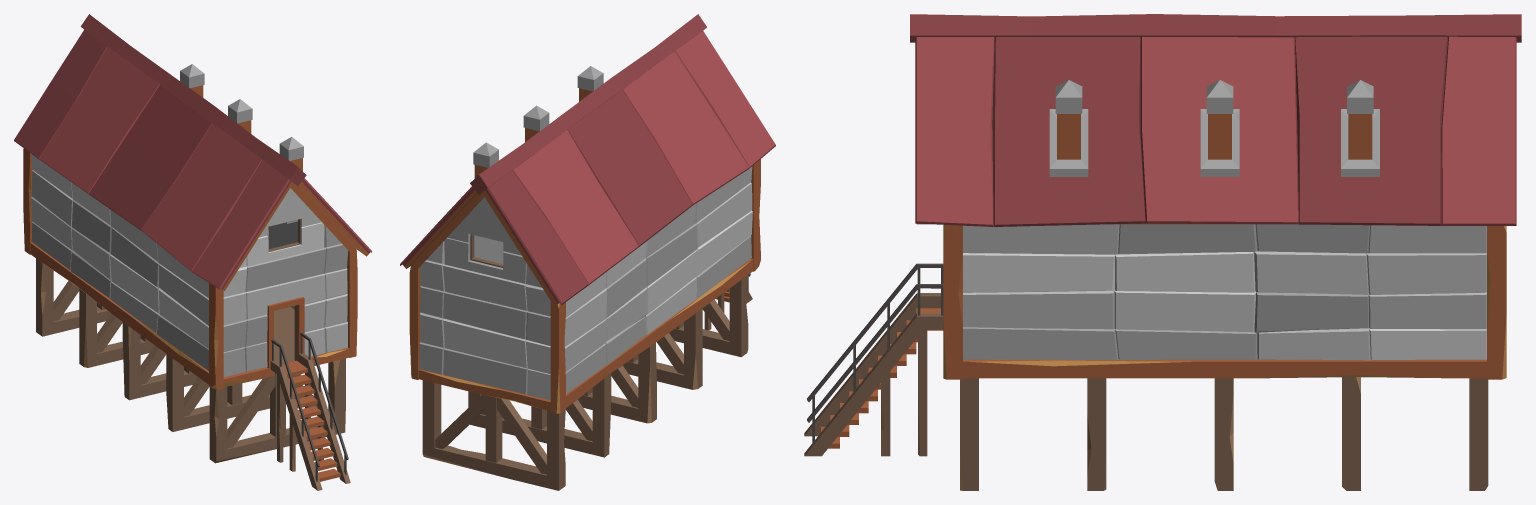
Rendered from Granary.fbx.
3 renders of one model, left to right at view 1: azimuth 30°, elevation 25°; view 2: azimuth 150°, elevation 25°; view 3: azimuth 270°, elevation 25°, orthographic. The views are drawn at different scales.
Visible parts, largest first — view 1: Granary.001; view 2: Granary.001; view 3: Granary.001.
Part boxes in pixels (<box>): Granary.001: <box>14,14,371,490</box>; Granary.001: <box>400,14,775,490</box>; Granary.001: <box>804,14,1521,490</box>.
Size of the model in its own units: 139 by 251 by 379.
